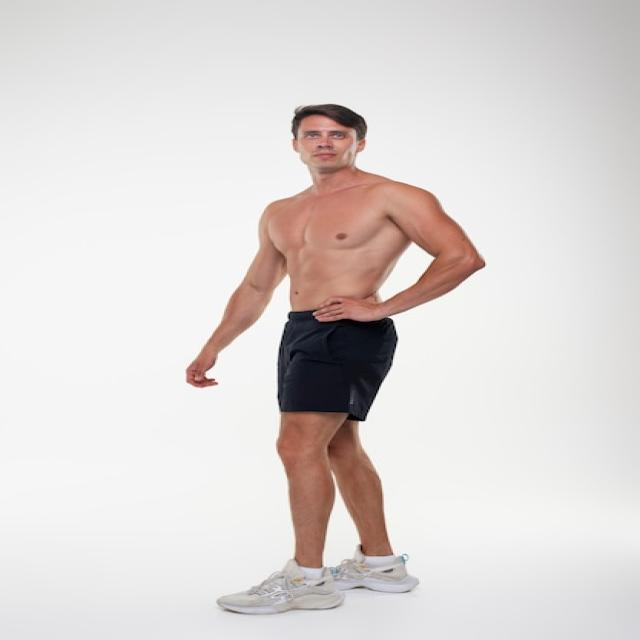Person: (188, 103, 483, 614)
